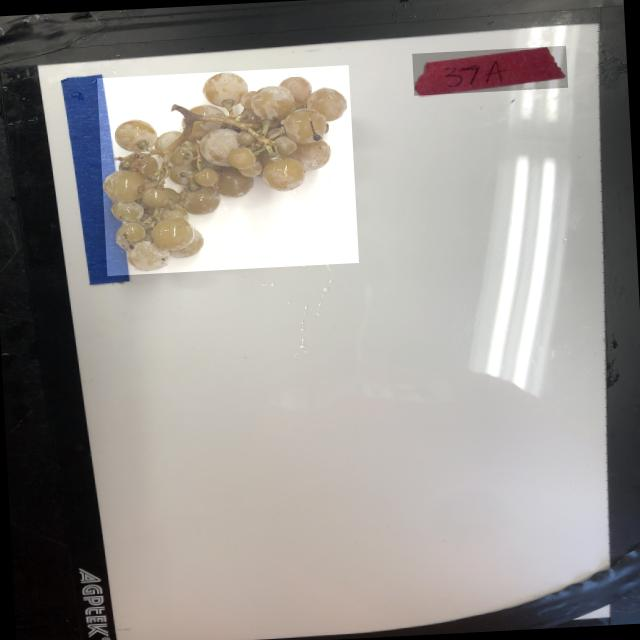grape_cluster: (97, 66, 359, 276)
index: (412, 46, 568, 96)
measure_label: (58, 72, 134, 288)
